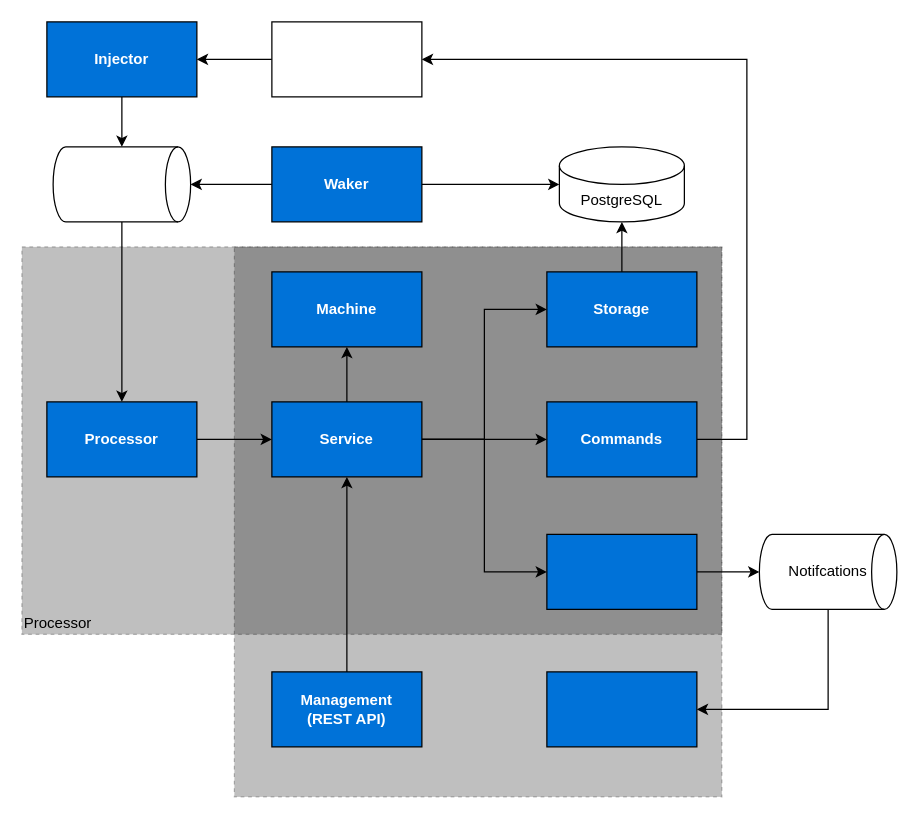
This 919x819 diagram has some shape labels left out. Each missing label, with the box of its shape:
Backend: (233, 246, 722, 797)
Events: (52, 146, 191, 222)
IoT connectivity: (271, 21, 422, 97)
Listener (WebSocket): (546, 671, 697, 747)
Notifier: (546, 533, 697, 609)
